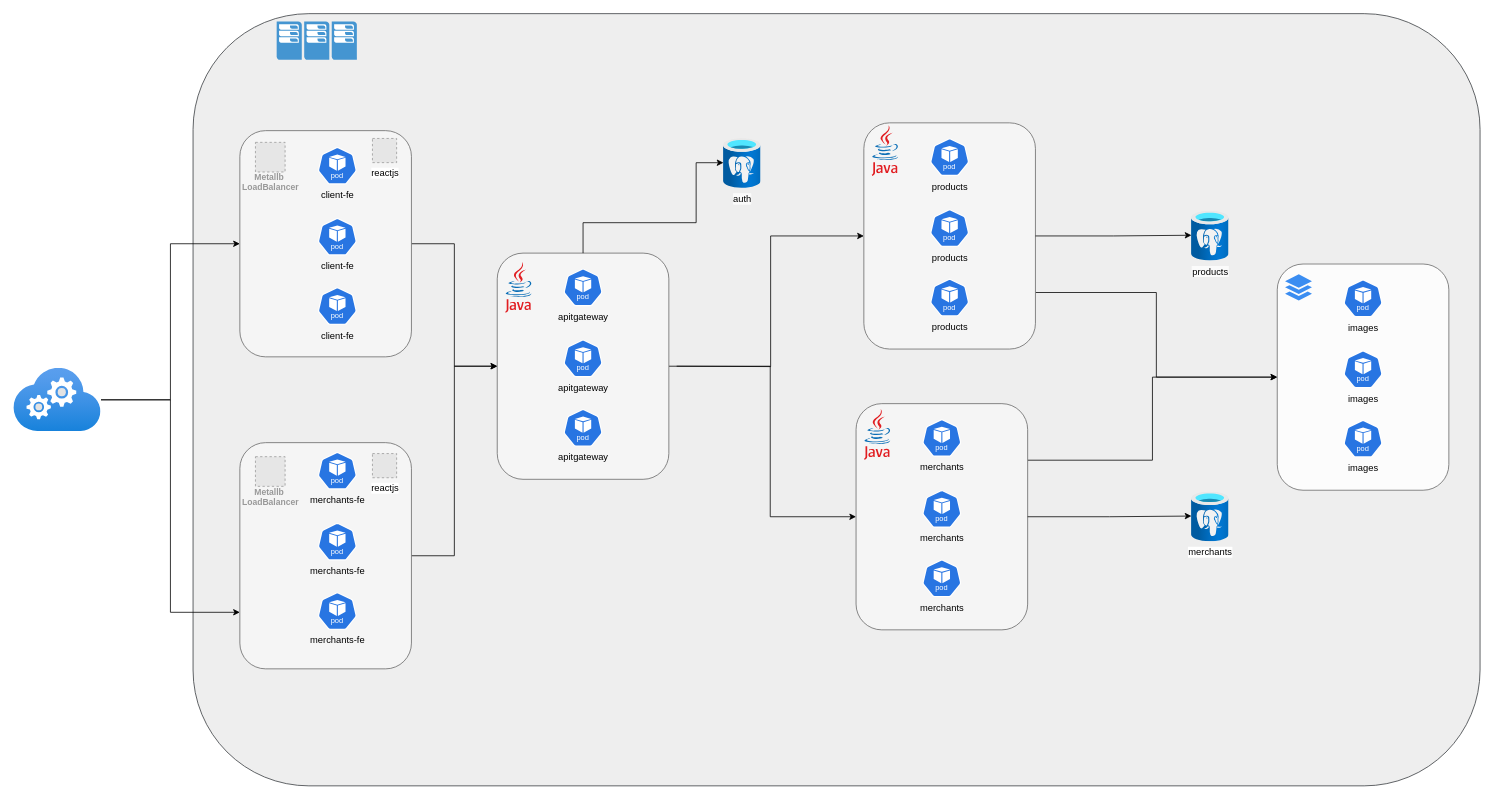
This 1494x800 diagram has some shape labels left out. Grey dashed boxes stand in for pictures. The shapes that lost their labels are listed below. From the top down, each one's box as (x1, y1, x2, y2) in pixels, then its label:
(276, 21, 356, 59): Cluster
(1285, 274, 1312, 300): Nginx
(13, 368, 101, 431): CloudFlare
